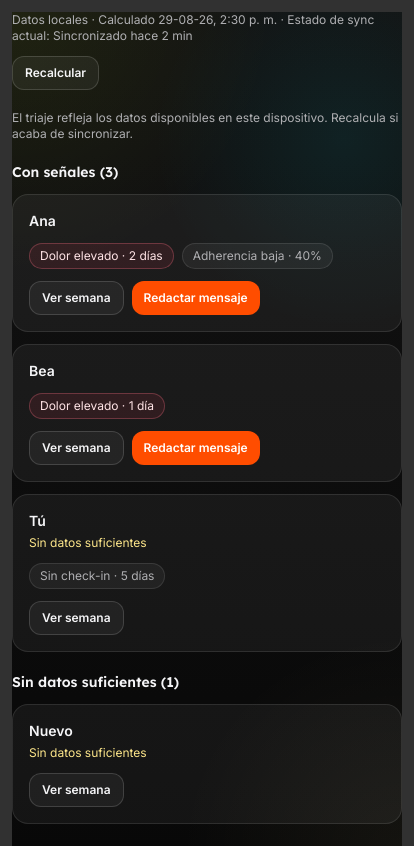
Test: CoachAssistantPanel › un bloqueo de clase deshabilita la redacción para todos los atletas
Click the button with test id "draft-ath_a" at (196, 298), box top-left (132, 281), bottom-right (260, 315)
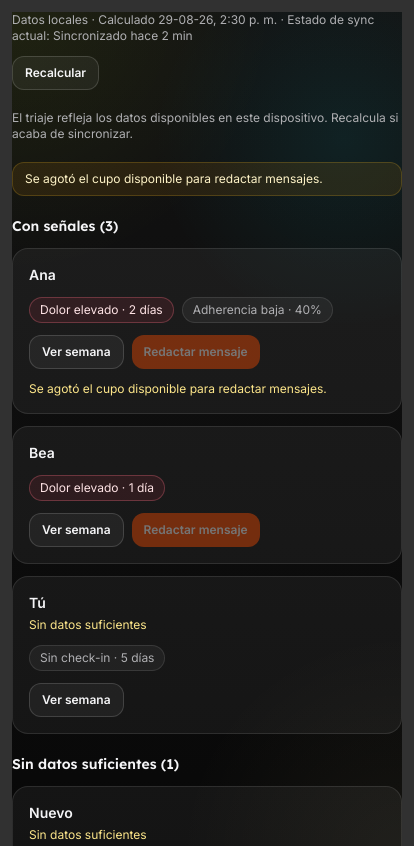
Expected: the element with test id "draft-global-error" does not show ""
Expected: the button with test id "draft-ath_a" is disabled, top-left (132, 335), bottom-right (260, 369)
Expected: the button with test id "draft-ath_b" is disabled, top-left (132, 513), bottom-right (260, 547)
